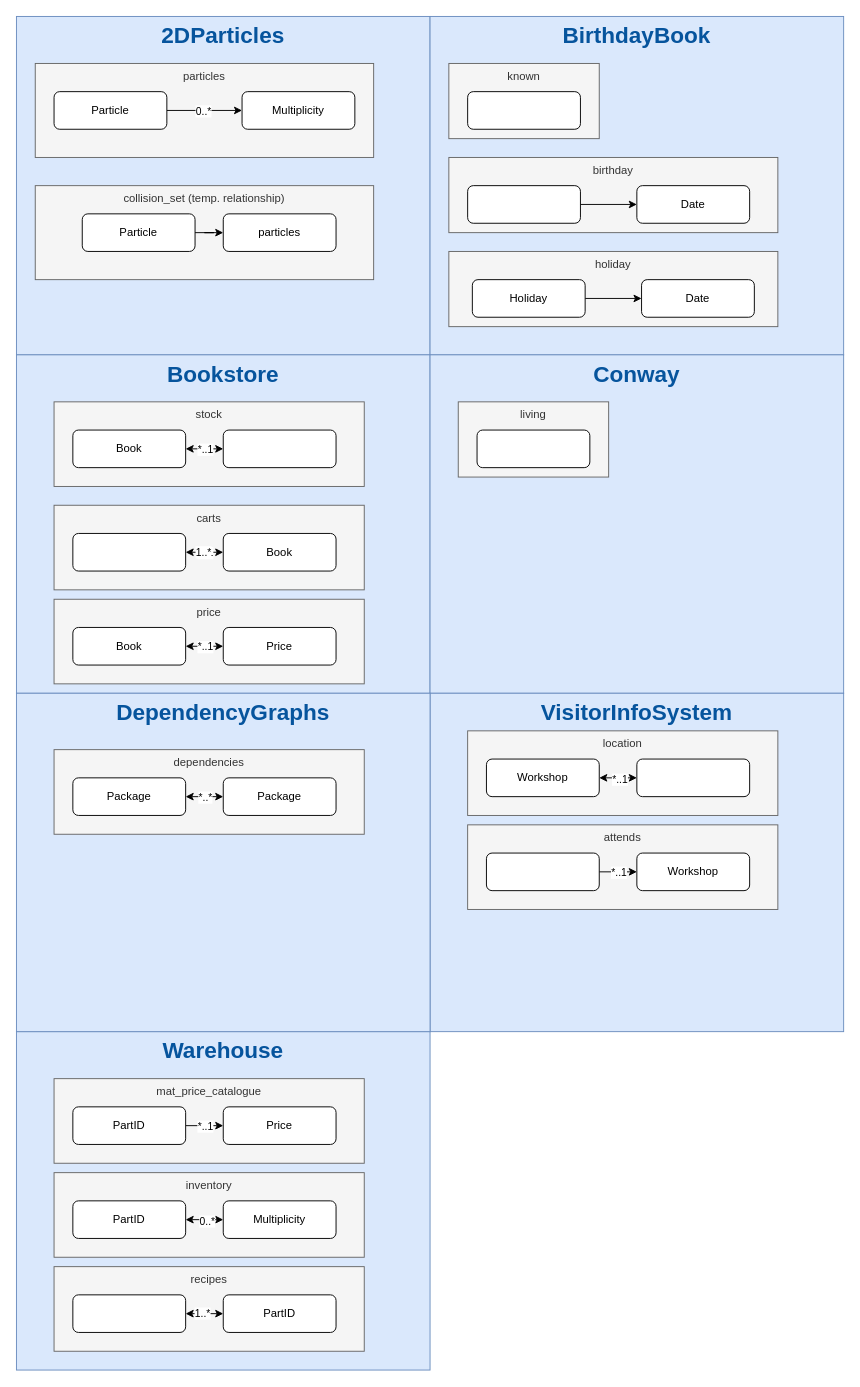
This 860x1387 diagram has some shape labels left out. The centre of each missing label's shape, as x and y in pixels:
"Customer" belongs at pixel 129 552.
"Person" belongs at pixel 523 204.
"POW(Cell)" belongs at pixel 533 448.
"POW(Person)" belongs at pixel 523 110.
"ProductID" belongs at pixel 129 1313.
"Room" belongs at pixel 693 777.
"Seller" belongs at pixel 279 448.
"Visitor" belongs at pixel 542 871.
